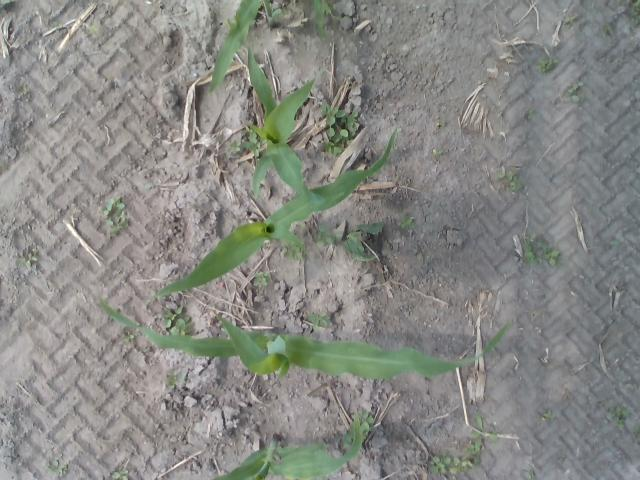Maize: (150, 126, 398, 300), (98, 301, 510, 380), (239, 41, 326, 215), (208, 408, 364, 480), (207, 0, 326, 92)
Weeds: (344, 221, 384, 261), (469, 416, 498, 450), (326, 111, 358, 138), (160, 304, 186, 329), (321, 101, 344, 121), (102, 197, 126, 215), (430, 454, 450, 474), (316, 225, 334, 246), (308, 311, 328, 329), (172, 316, 192, 334), (451, 456, 469, 475), (318, 140, 342, 154), (569, 82, 584, 103), (610, 407, 628, 424), (363, 411, 375, 435), (394, 216, 414, 230), (21, 252, 37, 268), (285, 246, 303, 260), (523, 244, 535, 264), (630, 1, 640, 24), (254, 270, 268, 286), (536, 58, 552, 72), (545, 250, 559, 266), (116, 212, 130, 226), (534, 240, 550, 252), (112, 470, 129, 480), (120, 330, 134, 342), (562, 14, 578, 24), (166, 374, 179, 386), (230, 140, 241, 153), (606, 22, 617, 34), (104, 218, 117, 228), (468, 444, 481, 454), (47, 458, 58, 468), (523, 233, 535, 242), (56, 465, 68, 474), (544, 410, 554, 420), (511, 182, 522, 191), (145, 182, 154, 191), (247, 132, 257, 140), (433, 149, 444, 156), (526, 108, 533, 118), (509, 171, 516, 180), (609, 240, 618, 246), (498, 174, 503, 180), (440, 120, 444, 125)
